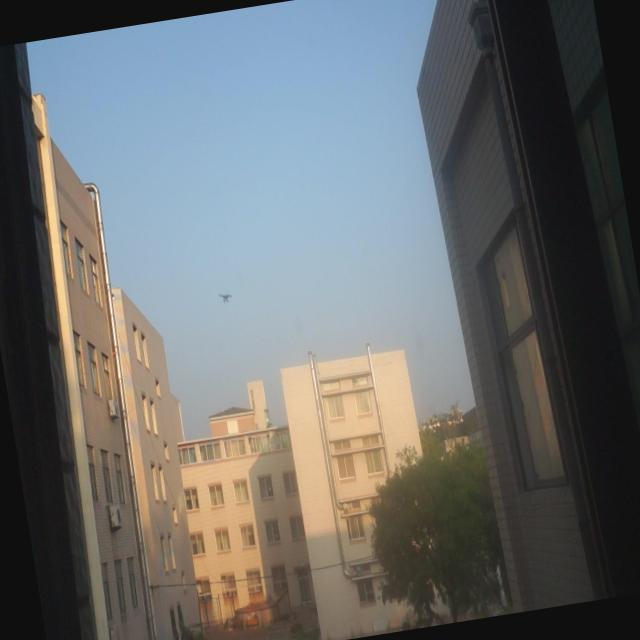drone: (220, 288, 234, 304)
